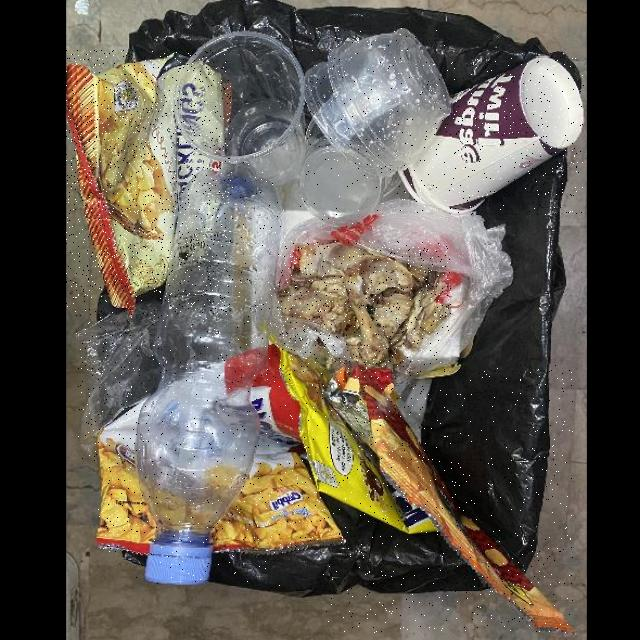biowaste: (276, 241, 451, 370)
paper: (398, 57, 584, 215)
plastic: (133, 160, 286, 586), (305, 27, 452, 175), (78, 299, 163, 463), (296, 122, 400, 226)
wrapper: (323, 364, 573, 632), (97, 340, 345, 552), (66, 50, 231, 315), (278, 350, 441, 534)
